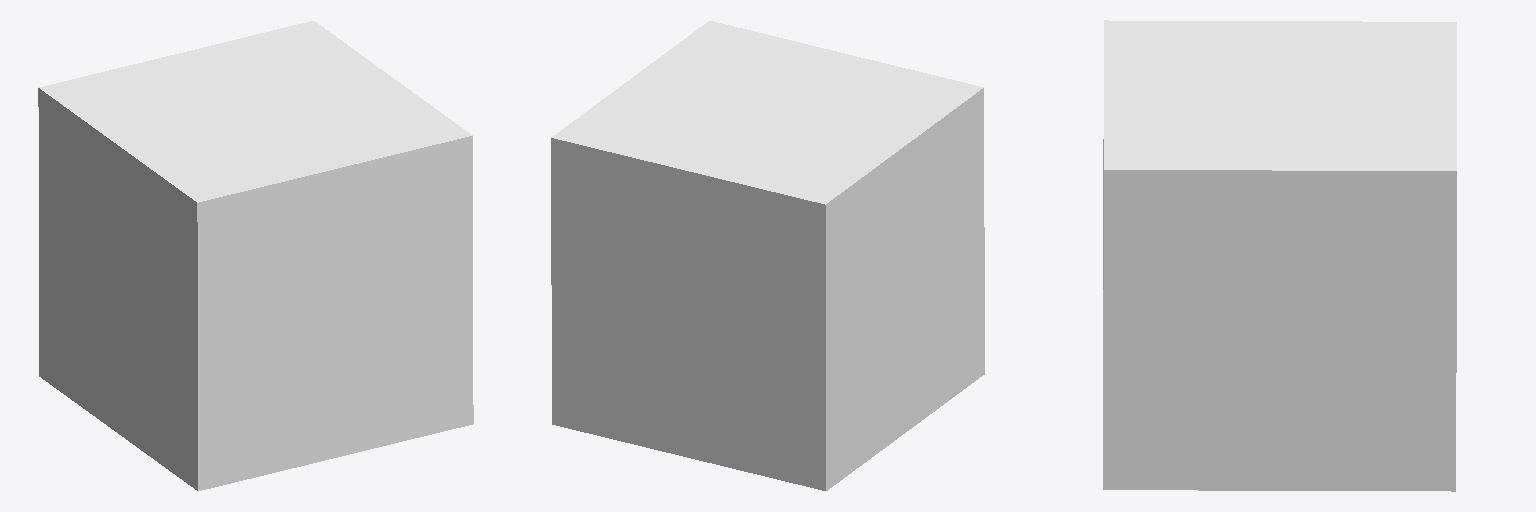
The robot description file, URDF, robot "Arrow_cube_bottle":
<?xml version="1.0" ?>
<robot name="Arrow_cube_bottle">
  <link name="baseLink">
    <contact>
    	<friction_anchor/>
    	   <lateral_friction value="1.0"/>
    </contact>
    <inertial>
      <origin rpy="0 0 0" xyz="0 0 0"/>
       <!-- mass controls penetration -->
       <mass value=".5"/>
       <inertia ixx="1e-4" ixy="0" ixz="0" iyy="1e-4" iyz="0" izz="1e-4"/>
    </inertial>
    <visual>
      <origin rpy="0 0 0" xyz="0 0 0"/>
      <geometry>
        <mesh filename="Arrow_cube_bottle.obj" scale="0.6 0.6 0.6"/>
      </geometry>
       <material name="white">
        <color rgba="1 1 1 1"/>
      </material>
    </visual>
    <collision>
      <origin rpy="0 0 0" xyz="0 0 0"/>
      <geometry>
        <mesh filename="Arrow_cube_bottle.obj" scale="0.6 0.6 0.6"/>
      </geometry>
      <sdf resolution="300"/>
    </collision>
  </link>
</robot>

--- Facts derived from the render (not from the file) ---
3 views of the same robot in one strip: view 1: azimuth 30°, elevation 25°; view 2: azimuth 150°, elevation 25°; view 3: azimuth 270°, elevation 25° (orthographic).
Robot: Arrow_cube_bottle — 1 links, 0 joints (none); root link baseLink; default pose: all joints at 0.
Visible links, largest first — view 1: baseLink; view 2: baseLink; view 3: baseLink.
Link boxes in pixels (bbox=[...]): baseLink: bbox=[38, 21, 473, 490]; baseLink: bbox=[551, 21, 984, 490]; baseLink: bbox=[1103, 20, 1456, 491].
Size in the robot's own frame: 0.048 by 0.0482 by 0.0482 metres.
1 mesh visuals loaded from 1 distinct referenced files (1 OBJ).